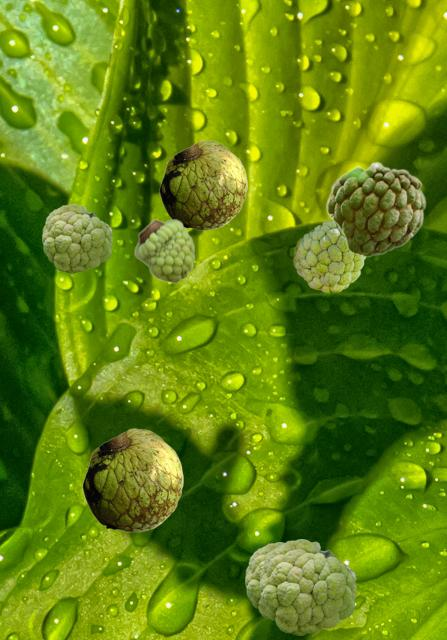atis: (82, 428, 182, 531), (325, 161, 425, 256), (259, 539, 355, 634), (159, 140, 246, 229), (293, 220, 366, 291), (42, 204, 111, 272), (134, 218, 194, 283), (245, 542, 284, 619)
